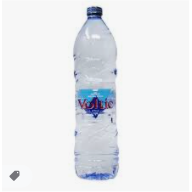Bottle: (75, 6, 120, 180)
